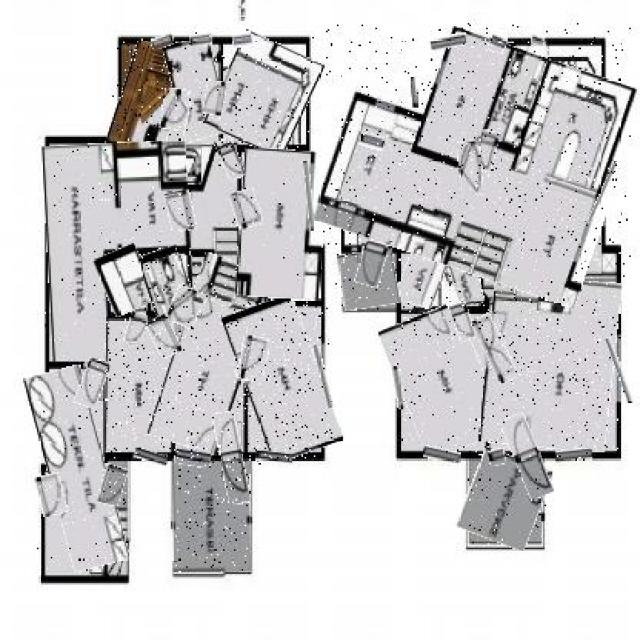door: (508, 414, 546, 498), (217, 412, 248, 505), (478, 314, 511, 383), (169, 286, 203, 329), (77, 359, 108, 406), (238, 336, 268, 382), (357, 242, 386, 288), (459, 142, 483, 196), (230, 189, 262, 229), (160, 88, 189, 130), (37, 474, 65, 517), (167, 191, 196, 232), (151, 316, 178, 358), (99, 465, 126, 506), (218, 137, 242, 178), (474, 131, 498, 171), (451, 302, 474, 342), (205, 82, 226, 115), (126, 311, 146, 343)
window: (610, 337, 628, 405), (595, 158, 611, 224), (175, 446, 211, 468), (317, 344, 329, 408), (134, 449, 168, 465), (431, 34, 466, 49), (423, 448, 460, 462), (305, 160, 312, 231), (257, 452, 294, 465), (556, 449, 592, 462), (394, 366, 403, 409), (360, 134, 385, 149), (489, 34, 508, 52), (232, 32, 252, 48), (191, 31, 212, 46), (152, 34, 174, 48), (489, 448, 505, 466), (412, 77, 418, 108), (532, 34, 545, 46)
zone: (325, 23, 632, 289), (44, 142, 194, 360), (483, 274, 619, 451), (160, 257, 260, 454), (35, 366, 117, 571), (234, 297, 332, 458), (391, 306, 495, 456), (238, 150, 324, 298), (212, 37, 316, 152), (406, 45, 486, 177), (106, 318, 171, 454), (174, 460, 251, 574), (112, 41, 185, 157), (462, 452, 546, 546), (169, 38, 225, 140), (99, 248, 152, 315), (340, 251, 398, 309), (144, 248, 193, 315), (476, 41, 512, 132), (399, 252, 443, 308), (438, 254, 482, 309)
